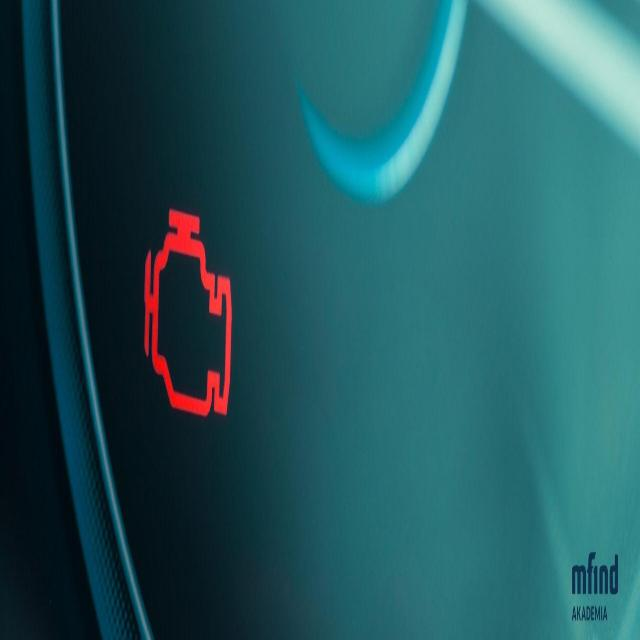kontrolka: (122, 146, 252, 468)
